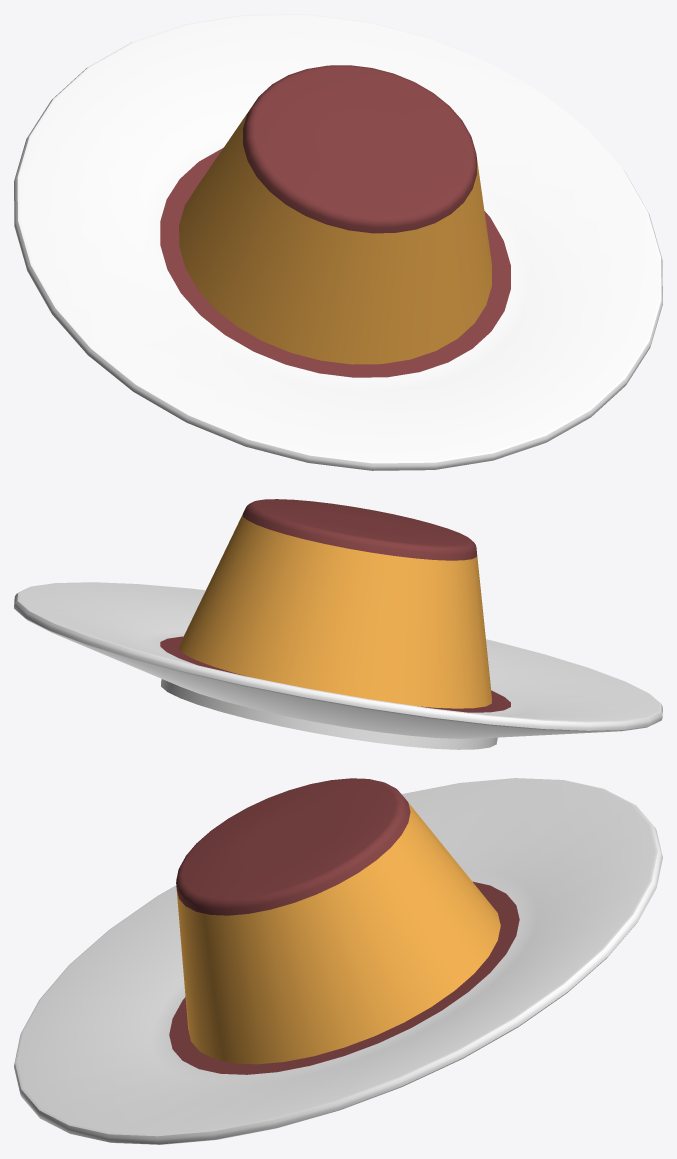
File: custard.glb
3 views of the same model, one above another, from view 1: azimuth 30°, elevation 25°; view 2: azimuth 150°, elevation 25°; view 3: azimuth 270°, elevation 25° (orthographic). The views are drawn at different scales.
Parts seen in each view (by area): view 1: Circle.2261; view 2: Circle.2261; view 3: Circle.2261.
Part boxes in pixels (bbox=[...]): Circle.2261: bbox=[14, 14, 662, 470]; Circle.2261: bbox=[14, 499, 662, 749]; Circle.2261: bbox=[14, 778, 662, 1144].
Size of the model in its own units: 2.35 by 1.01 by 2.21.
1 material, 1 textured.
